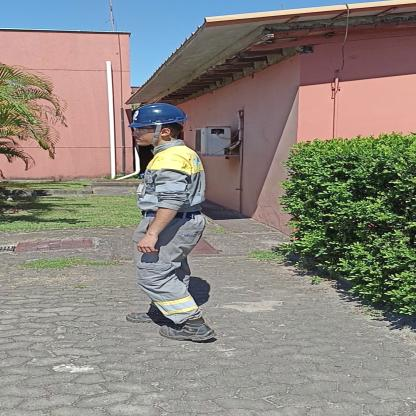Capacete: (125, 102, 188, 127)
